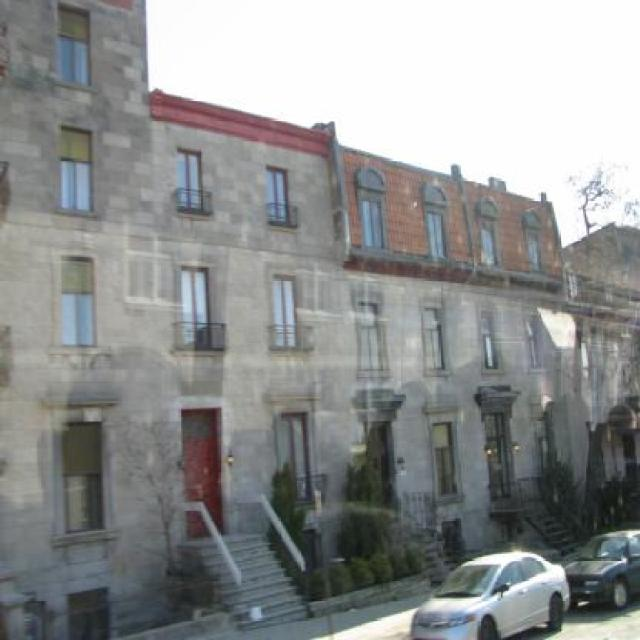stair: (178, 532, 314, 630), (522, 502, 588, 562), (396, 528, 462, 580)
